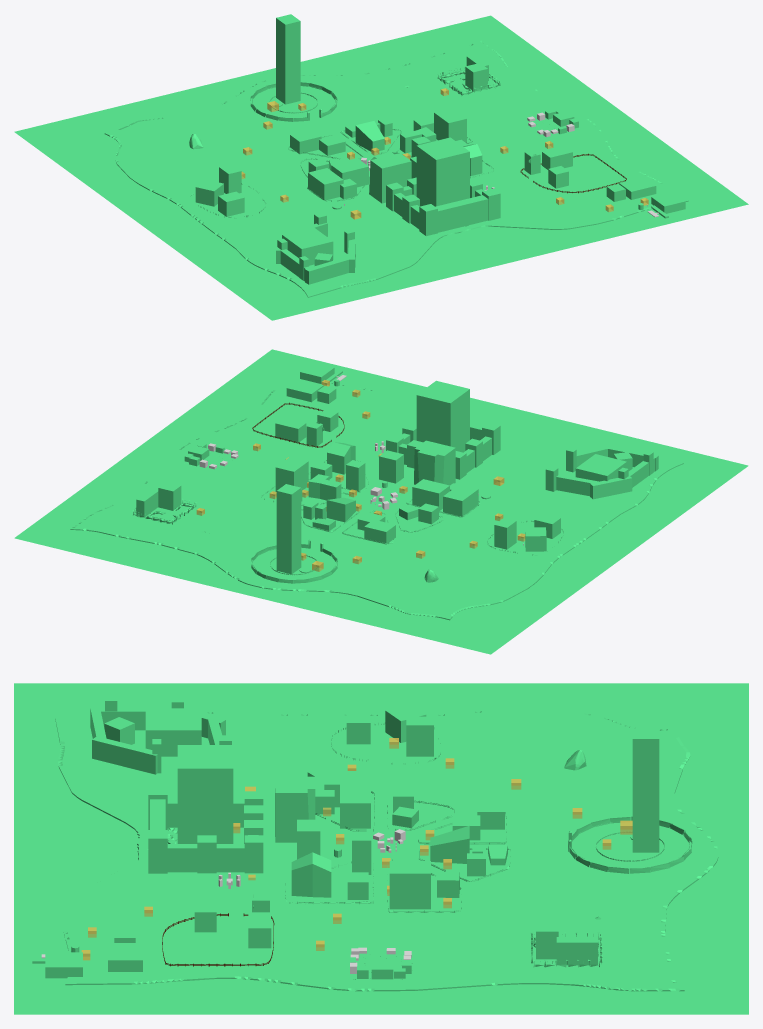
3 views of the same model, one above another, from view 1: azimuth 30°, elevation 25°; view 2: azimuth 150°, elevation 25°; view 3: azimuth 270°, elevation 25° (orthographic). The views are drawn at different scales.
Visible parts, largest first — view 1: COL_Ground, COL_Water, COL_WonderWalls_SecondAge, COL_Temple_SecondAge_Level2, COL_House_3.001, COL_Wall_SecondAge.002, COL_Barracks_SecondAge_Level3, COL_Barracks_FirstAge_Level2.001, COL_Inn, COL_Stable.001, COL_Houses_SecondAge_2_Level2.002, COL_Houses_SecondAge_2_Level2.001 (+9 smaller); view 2: COL_Ground, COL_Water, COL_Temple_SecondAge_Level2, COL_WonderWalls_SecondAge, COL_Wall_SecondAge.002, COL_House_3.001, COL_Barracks_SecondAge_Level3, COL_Barracks_FirstAge_Level2.001, COL_Inn, COL_Stable.001, COL_Houses_SecondAge_2_Level2.002, COL_TowerHouse_SecondAge (+12 smaller); view 3: COL_Ground, COL_Water, COL_WonderWalls_SecondAge, COL_Temple_SecondAge_Level2, COL_House_3.001, COL_Wall_SecondAge.002, COL_Barracks_SecondAge_Level3, COL_Barracks_FirstAge_Level2.001, COL_Inn, COL_Houses_SecondAge_2_Level2, COL_Wall_SecondAge, COL_Houses_SecondAge_2_Level2.002 (+18 smaller).
Boxes of the visible parts, x1,y1,x2,y2 form: COL_Ground: (104, 39, 688, 297); COL_Water: (14, 15, 748, 320); COL_WonderWalls_SecondAge: (386, 177, 500, 236); COL_Temple_SecondAge_Level2: (416, 137, 469, 206); COL_House_3.001: (276, 14, 300, 104); COL_Wall_SecondAge.002: (276, 223, 355, 284); COL_Barracks_SecondAge_Level3: (369, 152, 411, 203); COL_Barracks_FirstAge_Level2.001: (282, 227, 333, 265); COL_Inn: (434, 108, 466, 142); COL_Stable.001: (308, 168, 343, 200); COL_Houses_SecondAge_2_Level2.002: (331, 158, 368, 187); COL_Houses_SecondAge_2_Level2.001: (355, 121, 384, 151); COL_Ground: (70, 372, 683, 620); COL_Water: (14, 349, 748, 654); COL_Temple_SecondAge_Level2: (416, 380, 469, 452); COL_WonderWalls_SecondAge: (386, 422, 500, 479); COL_Wall_SecondAge.002: (556, 444, 658, 499); COL_House_3.001: (276, 484, 301, 574); COL_Barracks_SecondAge_Level3: (414, 440, 455, 485); COL_Barracks_FirstAge_Level2.001: (575, 454, 626, 481); COL_Inn: (275, 456, 308, 491); COL_Stable.001: (443, 484, 478, 516); COL_Houses_SecondAge_2_Level2.002: (412, 479, 449, 511); COL_TowerHouse_SecondAge: (379, 450, 403, 483); COL_Ground: (55, 709, 718, 991); COL_Water: (14, 683, 748, 1014); COL_WonderWalls_SecondAge: (148, 786, 263, 873); COL_Temple_SecondAge_Level2: (177, 745, 233, 843); COL_House_3.001: (632, 728, 659, 852); COL_Wall_SecondAge.002: (90, 707, 225, 774); COL_Barracks_SecondAge_Level3: (275, 772, 315, 842); COL_Barracks_FirstAge_Level2.001: (145, 708, 201, 756); COL_Inn: (389, 861, 430, 909); COL_Houses_SecondAge_2_Level2: (291, 852, 331, 897); COL_Wall_SecondAge: (569, 816, 692, 873); COL_Houses_SecondAge_2_Level2.002: (340, 784, 370, 828).
Size of the model in its own units: 320 by 54.35 by 300.
Materials: 3 (1 with a texture image).
